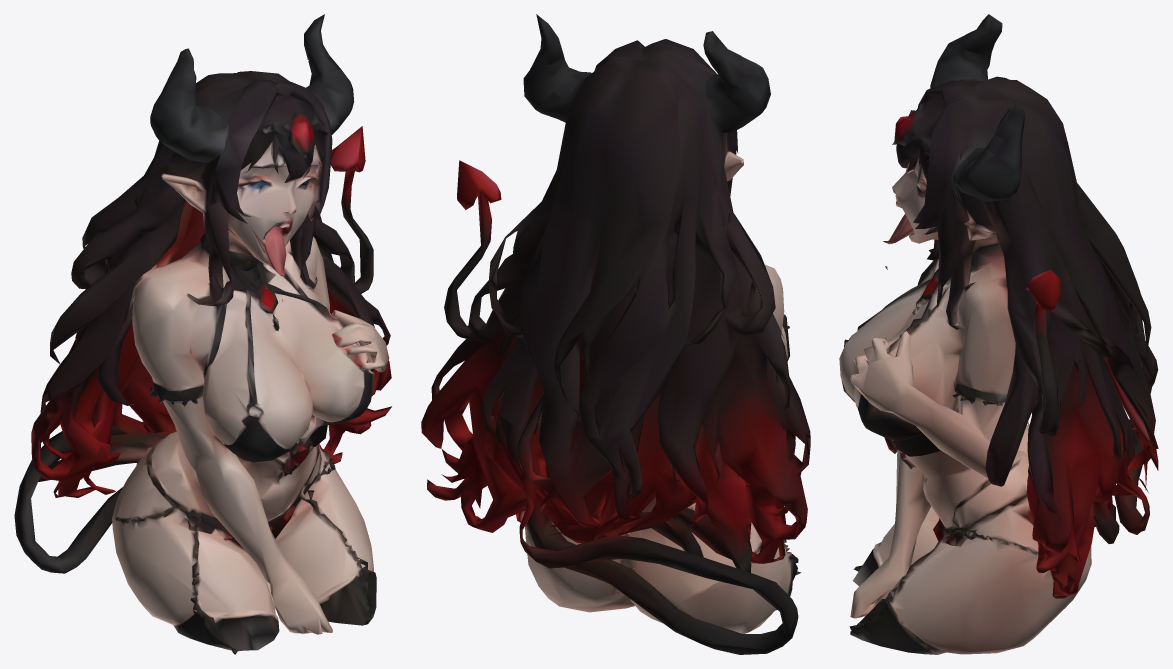
The picture shows the model from 3 angles, left to right: view 1: azimuth 30°, elevation 25°; view 2: azimuth 150°, elevation 25°; view 3: azimuth 270°, elevation 25°; orthographic projection. The views are drawn at different scales.
Parts seen in each view (by area): view 1: model; view 2: model; view 3: model.
Part boxes in pixels (x1,y1,x2,y2): model: (14,14,391,654); model: (421,14,810,654); model: (839,14,1158,654).
Bounding box in the file's own units: 1.28 × 1.89 × 0.9708.
